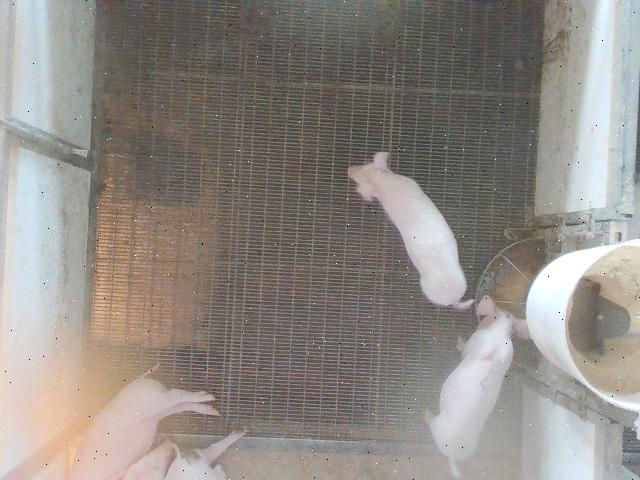pig-5: (425, 295, 529, 477)
